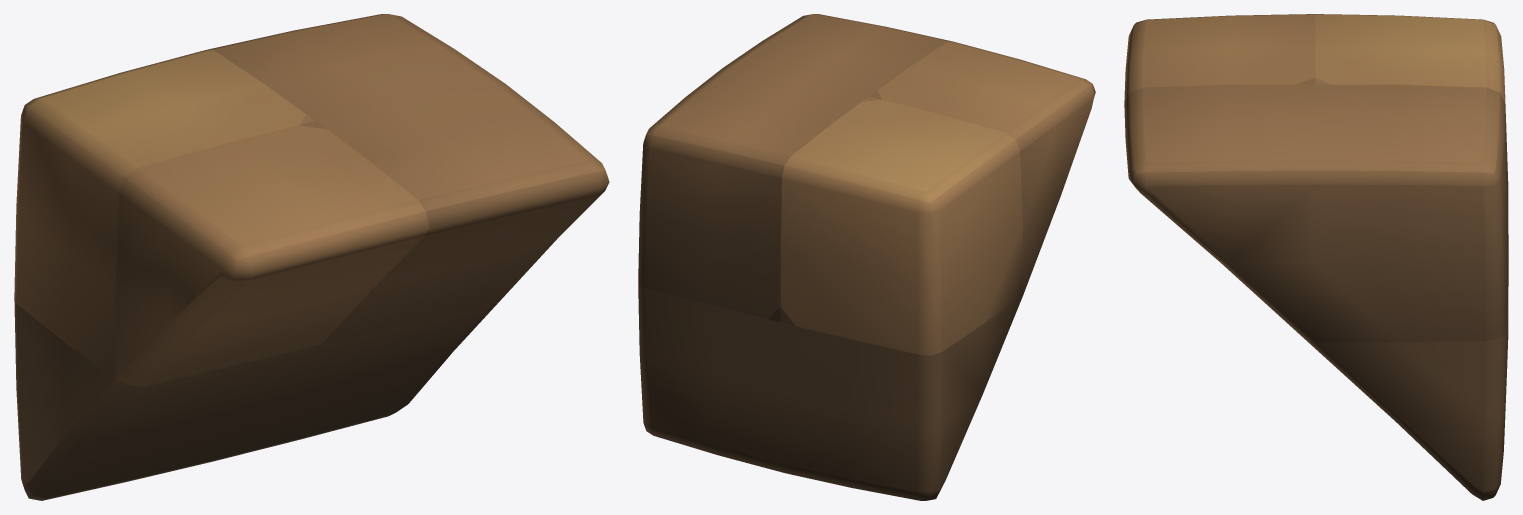
File: Sandstone_2x2_SlopeUnder.fbx
3 renders of one model, left to right at view 1: azimuth 30°, elevation 25°; view 2: azimuth 150°, elevation 25°; view 3: azimuth 270°, elevation 25°, orthographic. The views are drawn at different scales.
Visible parts, largest first — view 1: Sandstone_2x2_SlopeUnder_LOD0; view 2: Sandstone_2x2_SlopeUnder_LOD0; view 3: Sandstone_2x2_SlopeUnder_LOD0.
Boxes of the visible parts, x1,y1,x2,y2 form: Sandstone_2x2_SlopeUnder_LOD0: [14, 14, 609, 500]; Sandstone_2x2_SlopeUnder_LOD0: [638, 14, 1095, 500]; Sandstone_2x2_SlopeUnder_LOD0: [1124, 14, 1508, 500].
Size of what is drawn, in the model's own units: 1.09 by 1.08 by 1.08.
